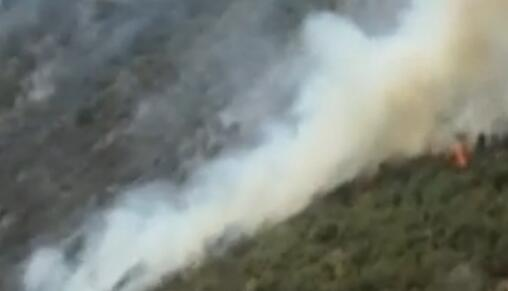yanwu: (3, 1, 508, 289)
